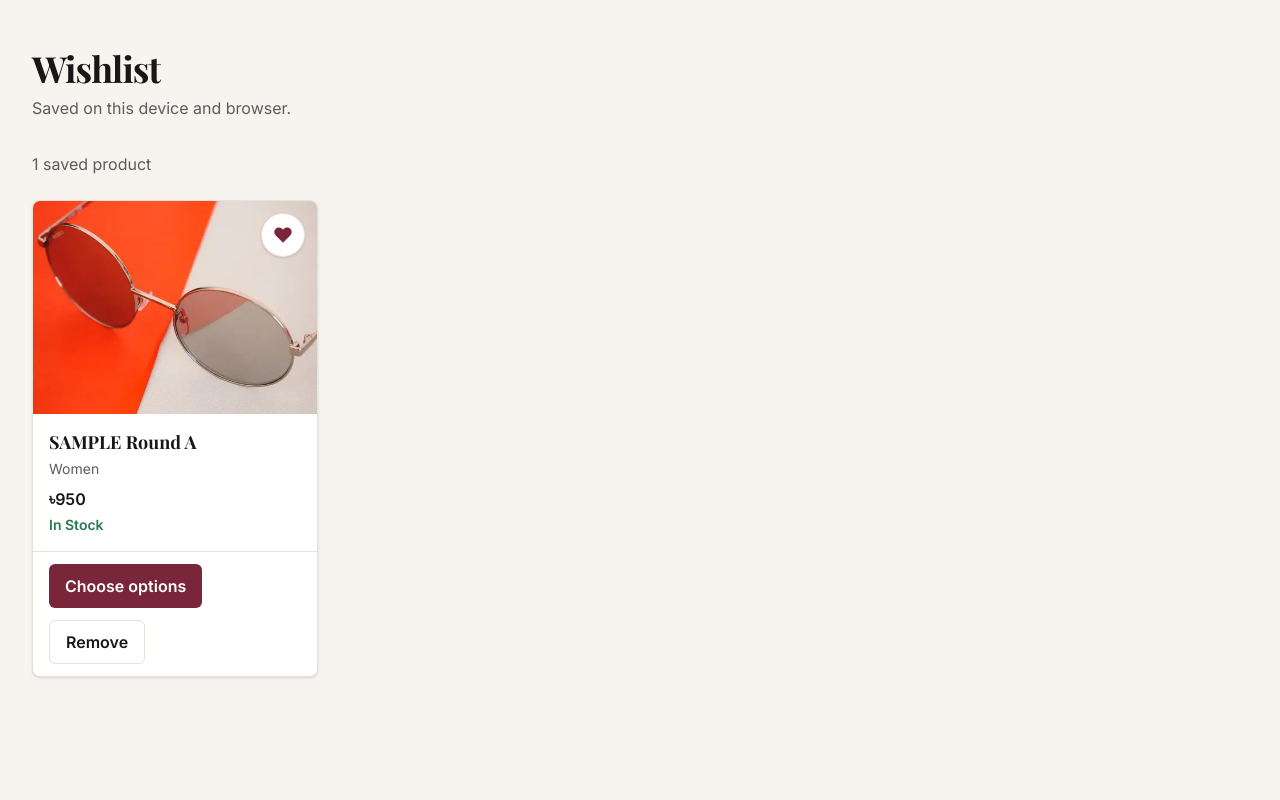
Test: WishlistPage › in-stock items link to the PDP to choose options; Remove works
This screenshot has width=1280, height=800.
Click the button "Remove": (97, 642) x1=49 y1=620 x2=145 y2=664
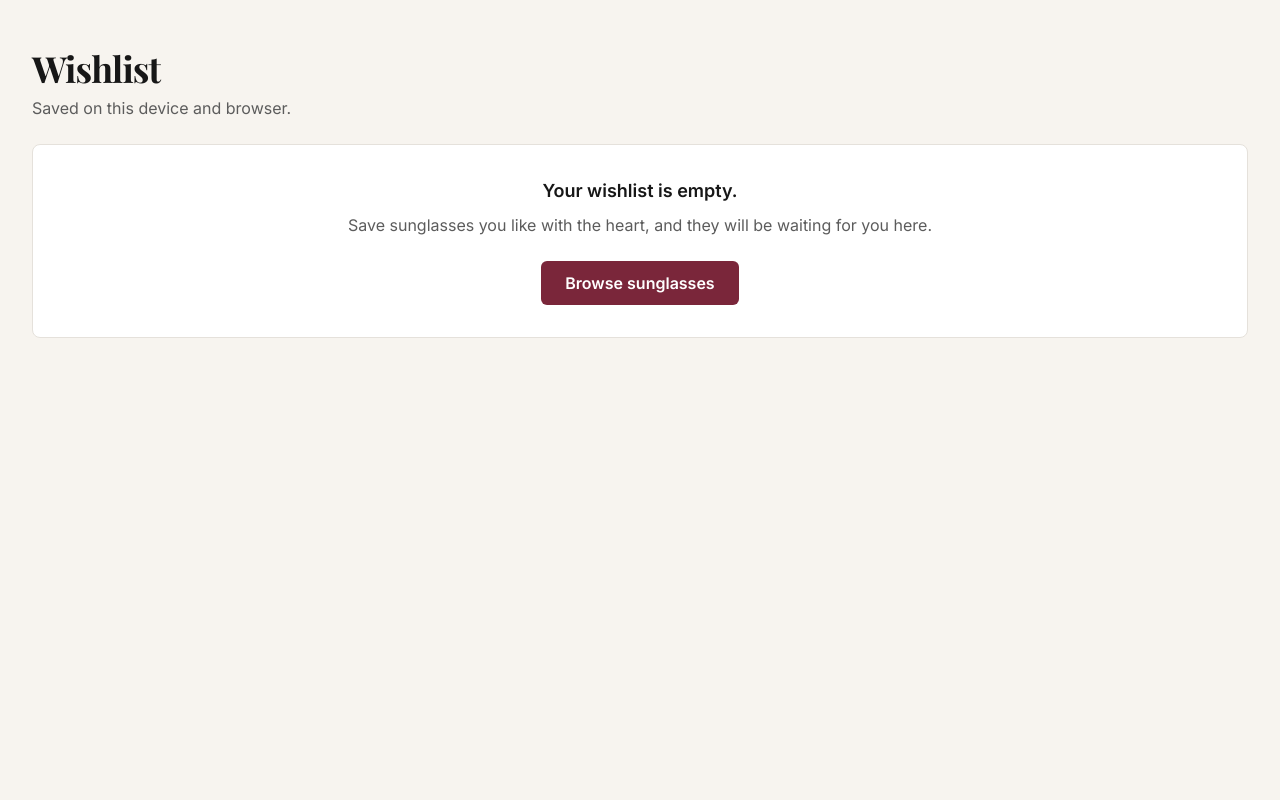
Expected: the text "Your wishlist is empty." is shown, x1=542 y1=180 x2=738 y2=201
Expected: the link "SAMPLE Round A" is gone
